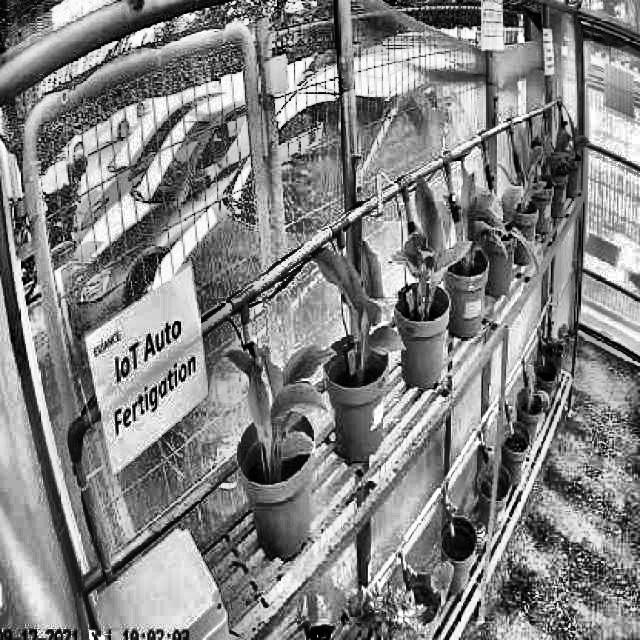plants: (225, 342, 338, 462), (314, 236, 406, 359), (390, 176, 472, 296), (454, 164, 506, 270), (513, 131, 547, 214)
